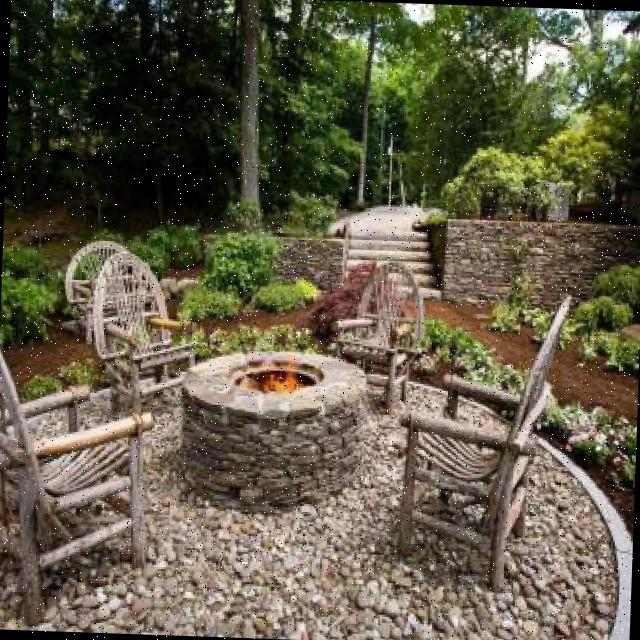fire: (247, 350, 295, 404)
